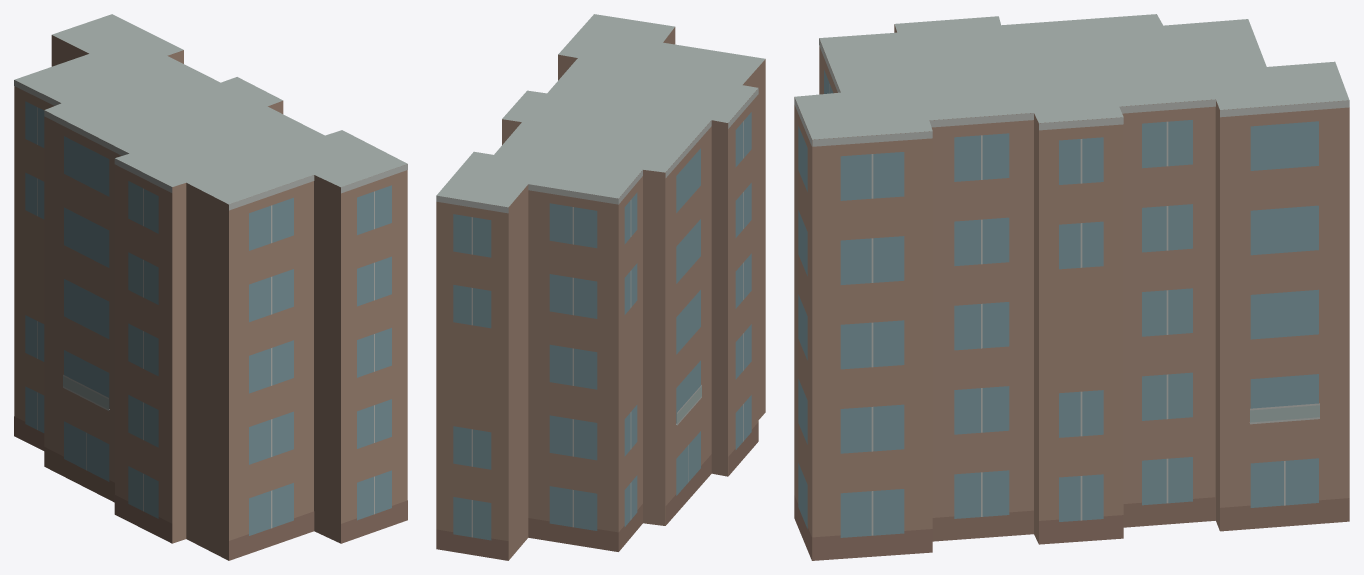
The model's file is survey-upis-32704521.glb.
3 renders of one model, left to right at view 1: azimuth 30°, elevation 25°; view 2: azimuth 150°, elevation 25°; view 3: azimuth 270°, elevation 25°, orthographic. The views are drawn at different scales.
Parts seen in each view (by area): view 1: survey-upis-32704521.tmp; view 2: survey-upis-32704521.tmp; view 3: survey-upis-32704521.tmp.
Boxes of the visible parts, bbox=[...] form: survey-upis-32704521.tmp: bbox=[14, 14, 407, 560]; survey-upis-32704521.tmp: bbox=[436, 14, 765, 560]; survey-upis-32704521.tmp: bbox=[794, 14, 1349, 560].
Size of the model in its own units: 9.1 by 14.22 by 16.99.
